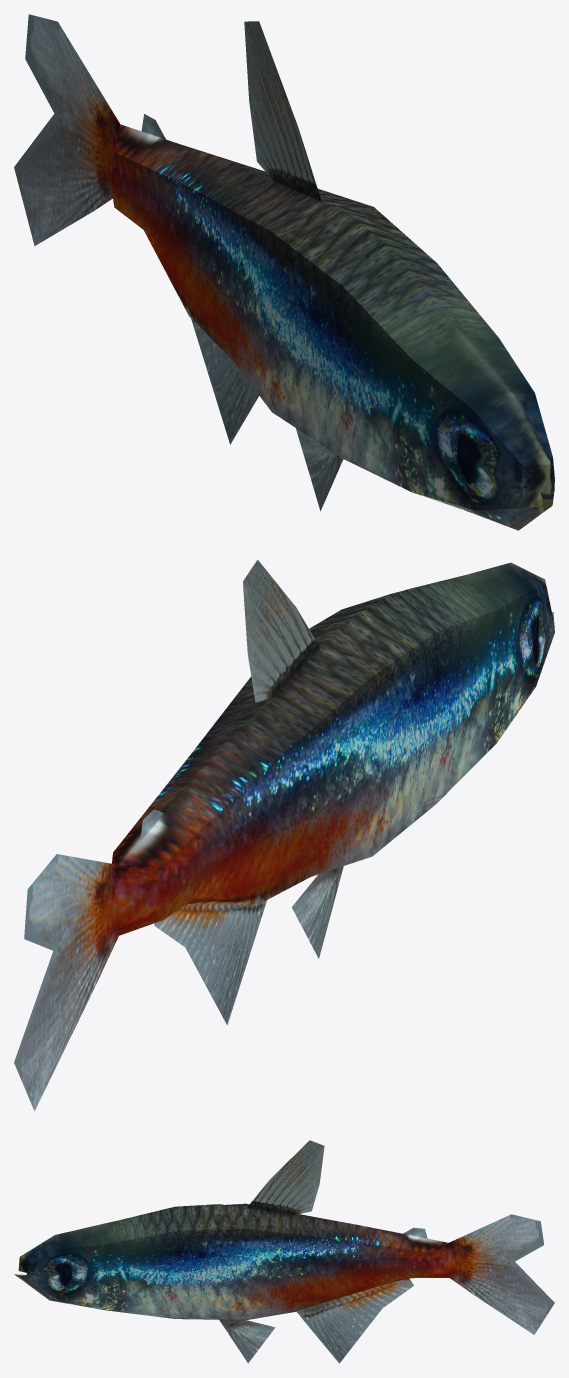
Rendered from neonfish.fbx.
3 renders of one model, top to bottom at view 1: azimuth 30°, elevation 25°; view 2: azimuth 150°, elevation 25°; view 3: azimuth 270°, elevation 25°, orthographic. The views are drawn at different scales.
Parts seen in each view (by area): view 1: tropicalFishMaya2008:neonfish:pCube1; view 2: tropicalFishMaya2008:neonfish:pCube1; view 3: tropicalFishMaya2008:neonfish:pCube1.
Part boxes in pixels (x1=…): tropicalFishMaya2008:neonfish:pCube1: x1=14, y1=14, x2=554, y2=530; tropicalFishMaya2008:neonfish:pCube1: x1=14, y1=559, x2=554, y2=1110; tropicalFishMaya2008:neonfish:pCube1: x1=14, y1=1140, x2=554, y2=1363.
Bounding box in the file's own units: 1.19 × 4.37 × 9.58.
